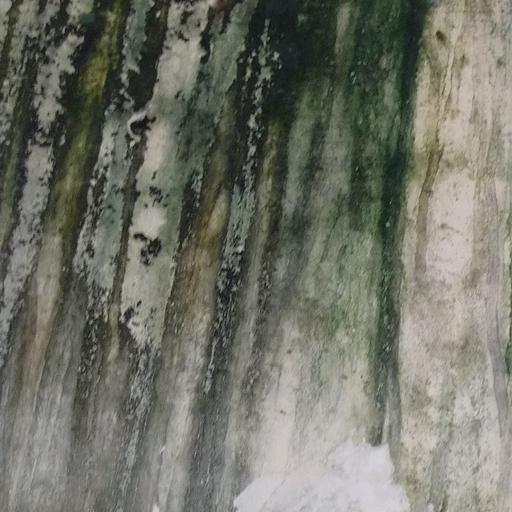algae: (0, 0, 411, 495)
